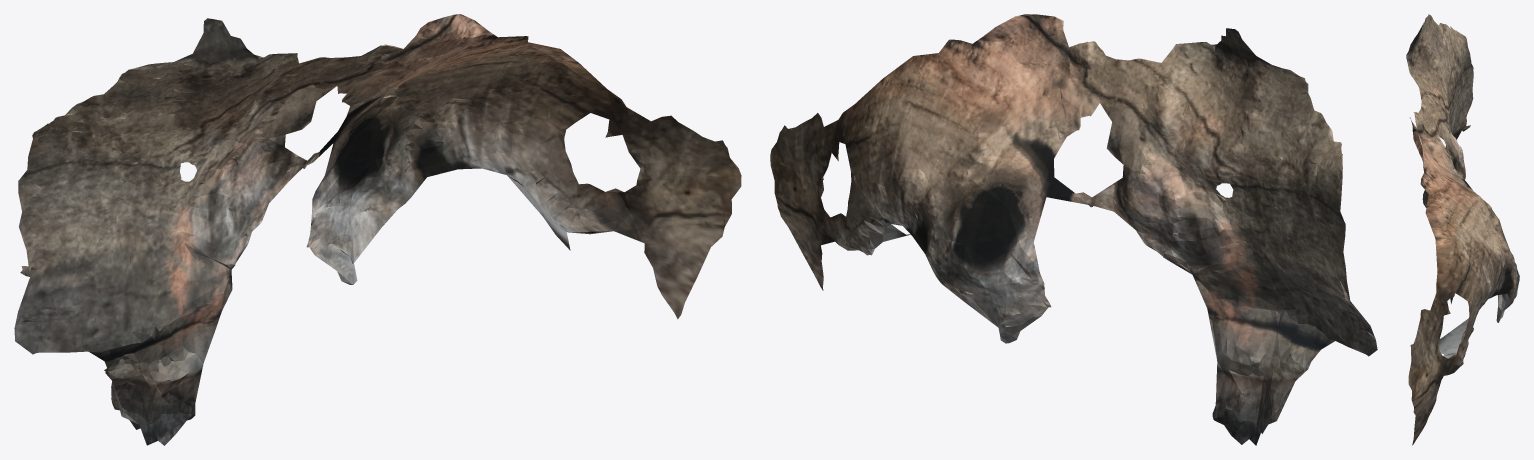
3 views of the same model, side by side, from view 1: azimuth 30°, elevation 25°; view 2: azimuth 150°, elevation 25°; view 3: azimuth 270°, elevation 25° (orthographic). The views are drawn at different scales.
Parts seen in each view (by area): view 1: TexturedMesh; view 2: TexturedMesh; view 3: TexturedMesh.
Boxes of the visible parts, <box> form: TexturedMesh: <box>14,14,741,445</box>; TexturedMesh: <box>770,14,1377,445</box>; TexturedMesh: <box>1406,14,1519,445</box>.
Bounding box in the file's own units: 2.26 × 1.35 × 0.471.
Materials: 1 (1 with a texture image).
